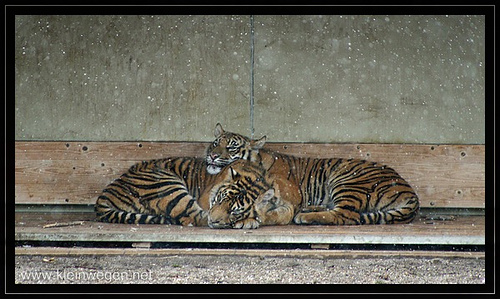Tigre: (208, 123, 424, 227)
